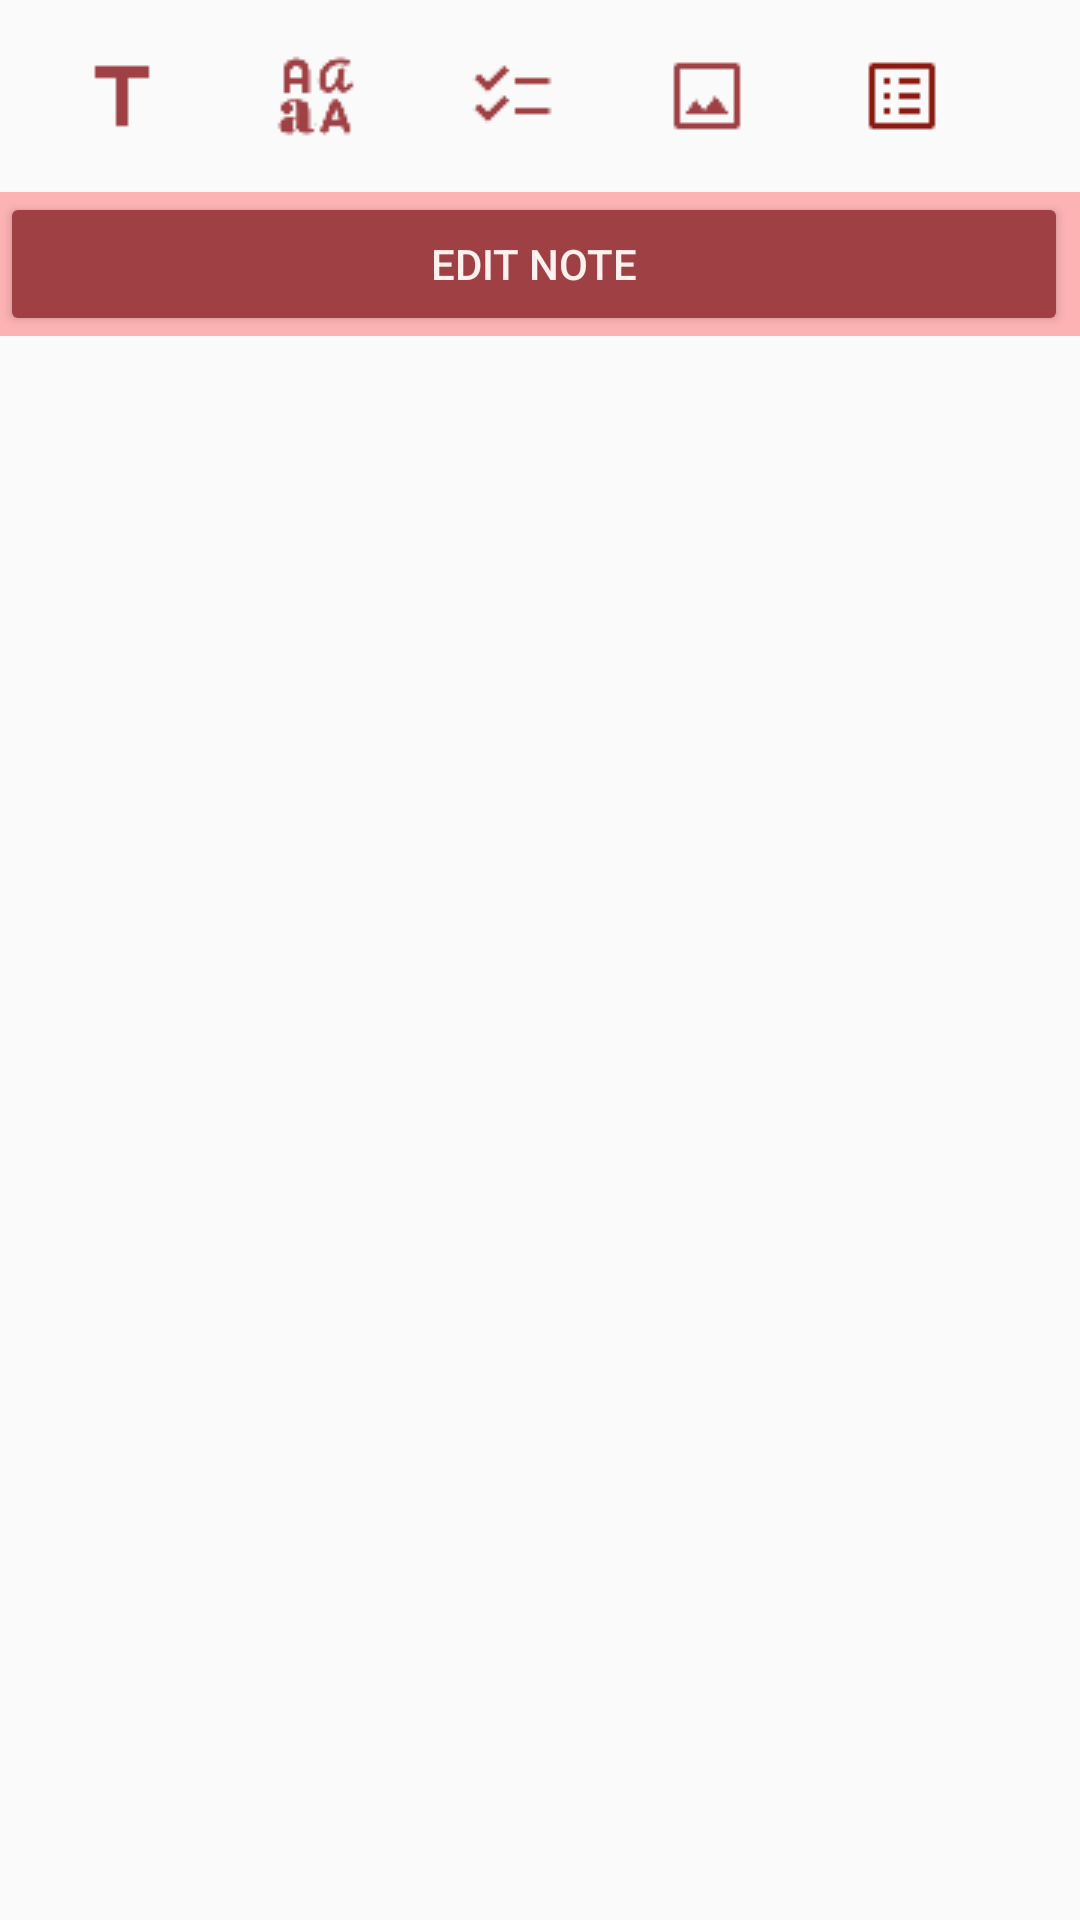

Named icons in this screenshot (1080 x 1920) and their centers, point (x, y):
checklist: point (513, 93)
Font: point (315, 96)
List: point (902, 96)
text: point (122, 96)
